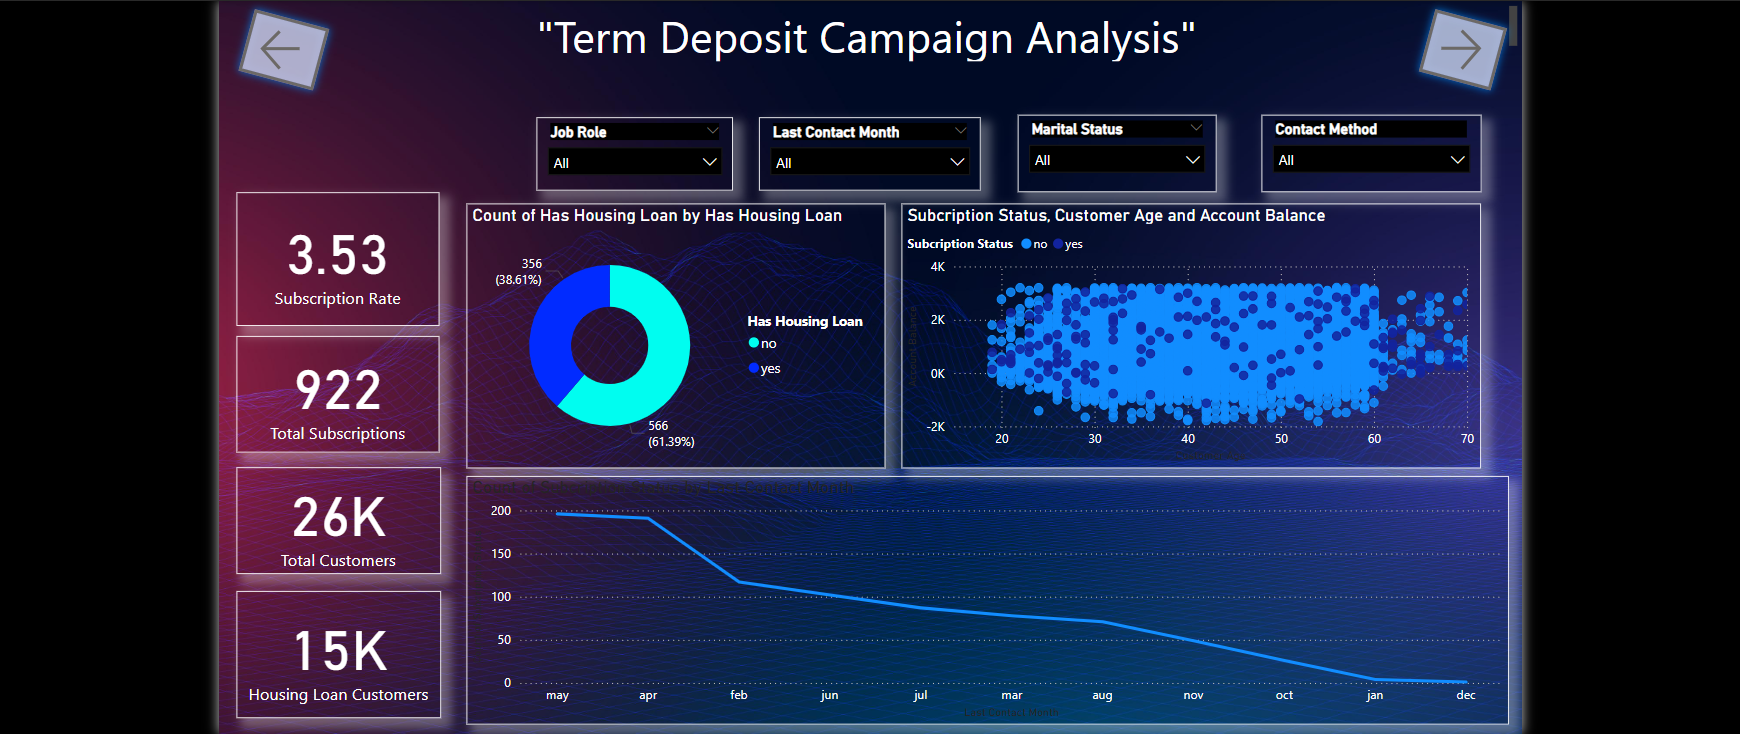

What the dashboard file says about the page in this screenshot:
{"tool":"powerbi","page":{"name":"Fundamental Analysis ","canvas":[1280,720],"ordinal":1},"visuals":[{"type":"textbox","box":[0,0,1279.8,63.8],"z":0},{"type":"cardVisual","fields":{"Data":["cleaned_train.Subscription Rate"]},"box":[16.7,198.8,200,129.8],"z":1000},{"type":"cardVisual","fields":{"Data":["cleaned_train.Total Subscriptions"]},"box":[17.9,338.1,200,121.4],"z":2000},{"type":"cardVisual","fields":{"Data":["cleaned_train.Total Customers"]},"box":[16.7,466.7,201.2,115.5],"z":3000},{"type":"cardVisual","fields":{"Data":["cleaned_train.Housing Loan Customers"]},"box":[16.7,588.1,201.2,115.5],"z":4000},{"type":"slicer","fields":{"Values":["cleaned_train.Job Role"]},"box":[242.9,96.4,202.4,72.6],"z":5000},{"type":"slicer","fields":{"Values":["cleaned_train.Last Contact Month"]},"box":[463.1,96.4,220.2,72.6],"z":6000},{"type":"slicer","fields":{"Values":["cleaned_train.Contact Method"]},"box":[983.3,96.4,283.3,72.6],"z":7000},{"type":"slicer","fields":{"Values":["cleaned_train.Marital Status"]},"box":[698.8,96.4,265.5,72.6],"z":8000},{"type":"donutChart","title":"Subscriptions by Housing Loan Status","fields":{"Category":["cleaned_train.Has Housing Loan"],"Y":["CountNonNull(cleaned_train.Has Housing Loan)"]},"box":[242.9,198.8,440.5,259.5],"z":9000},{"type":"scatterChart","title":"Subscription by Age and Account Balance","fields":{"X":["cleaned_train.Customer Age"],"Y":["cleaned_train.Account Balance"],"Series":["cleaned_train.Subcription Status"]},"box":[698.8,198.8,567.9,259.5],"z":10000},{"type":"lineChart","title":"Subscription by Last Contact Month ","fields":{"Category":["cleaned_train.Last Contact Month"],"Y":["CountNonNull(cleaned_train.Subcription Status)"]},"box":[242.7,466.4,1023.3,244.3],"z":11000},{"type":"actionButton","box":[0,0,127.4,95.9],"z":12000},{"type":"actionButton","box":[1128.6,0,117.9,96.4],"z":13000}]}

Visuals, with their boxes on the page's 1280x720 design canvas (x1, y1, x2, y2). These are canvas units, not pixel positions in the 1740x734 screenshot, which may show the page scaled, cropped or inside an application window:
textbox: 0, 0, 1280, 64
cardVisual - cleaned_train.Subscription Rate: 17, 199, 217, 329
cardVisual - cleaned_train.Total Subscriptions: 18, 338, 218, 460
cardVisual - cleaned_train.Total Customers: 17, 467, 218, 582
cardVisual - cleaned_train.Housing Loan Customers: 17, 588, 218, 704
slicer - cleaned_train.Job Role: 243, 96, 445, 169
slicer - cleaned_train.Last Contact Month: 463, 96, 683, 169
slicer - cleaned_train.Contact Method: 983, 96, 1267, 169
slicer - cleaned_train.Marital Status: 699, 96, 964, 169
"Subscriptions by Housing Loan Status" donutChart: 243, 199, 683, 458
"Subscription by Age and Account Balance" scatterChart: 699, 199, 1267, 458
"Subscription by Last Contact Month " lineChart: 243, 466, 1266, 711
actionButton: 0, 0, 127, 96
actionButton: 1129, 0, 1246, 96
